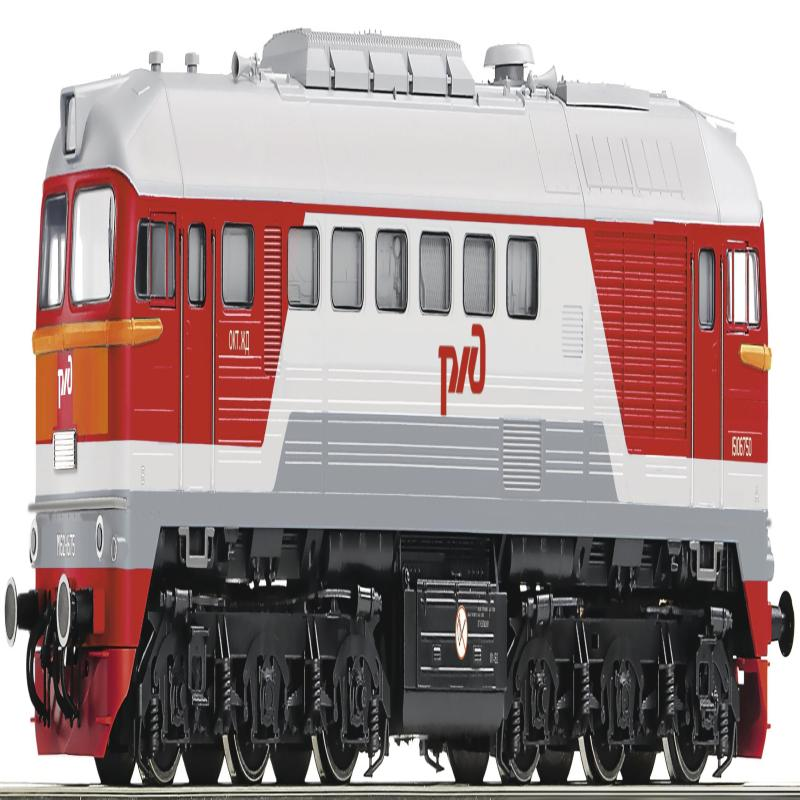train: (2, 11, 798, 781)
